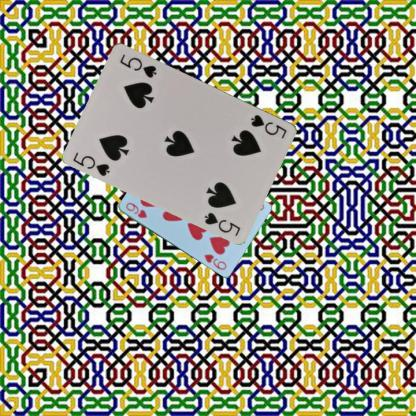5s: (248, 111, 289, 140), (70, 149, 112, 177)
9h: (123, 200, 148, 219)
